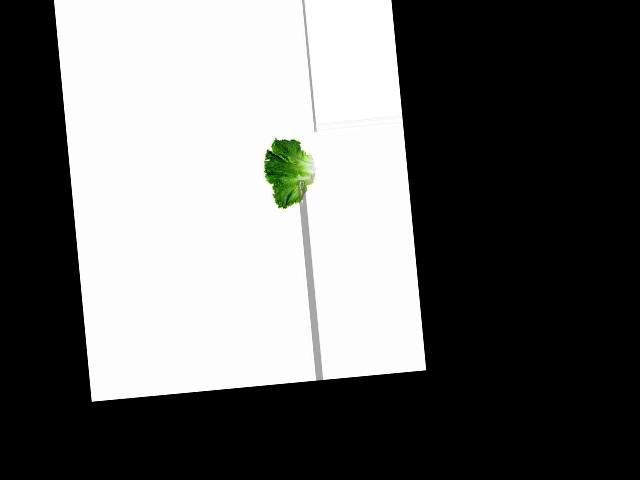lettuce: (262, 135, 319, 207)
